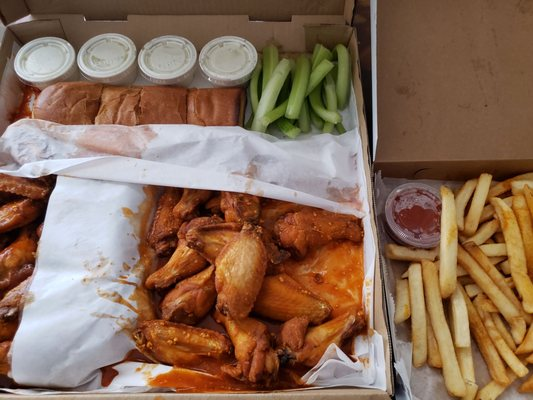pasta: (251, 42, 353, 139)
